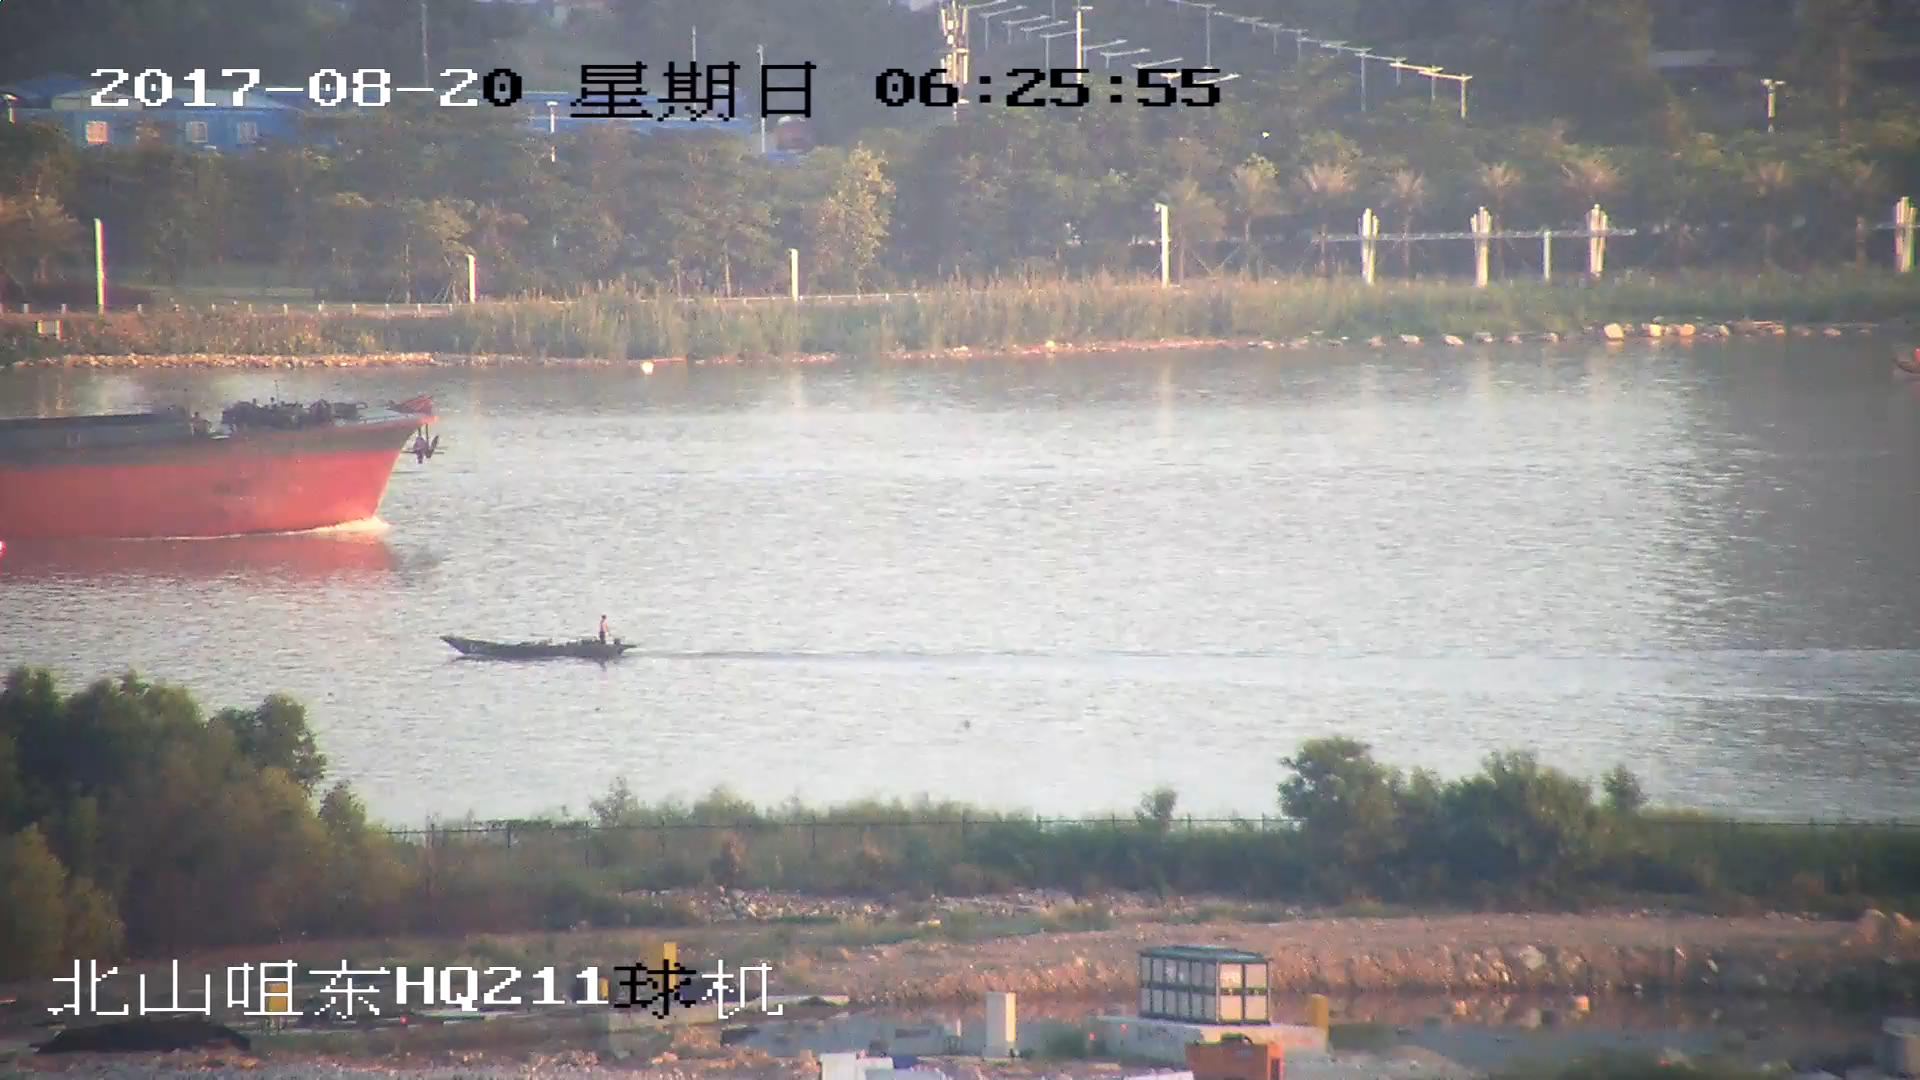bulk cargo carrier: (1, 390, 434, 538)
fishing boat: (439, 617, 637, 660)
